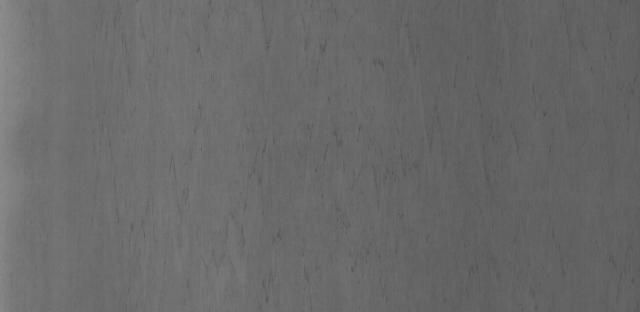silk_spot: (137, 14, 546, 312)
